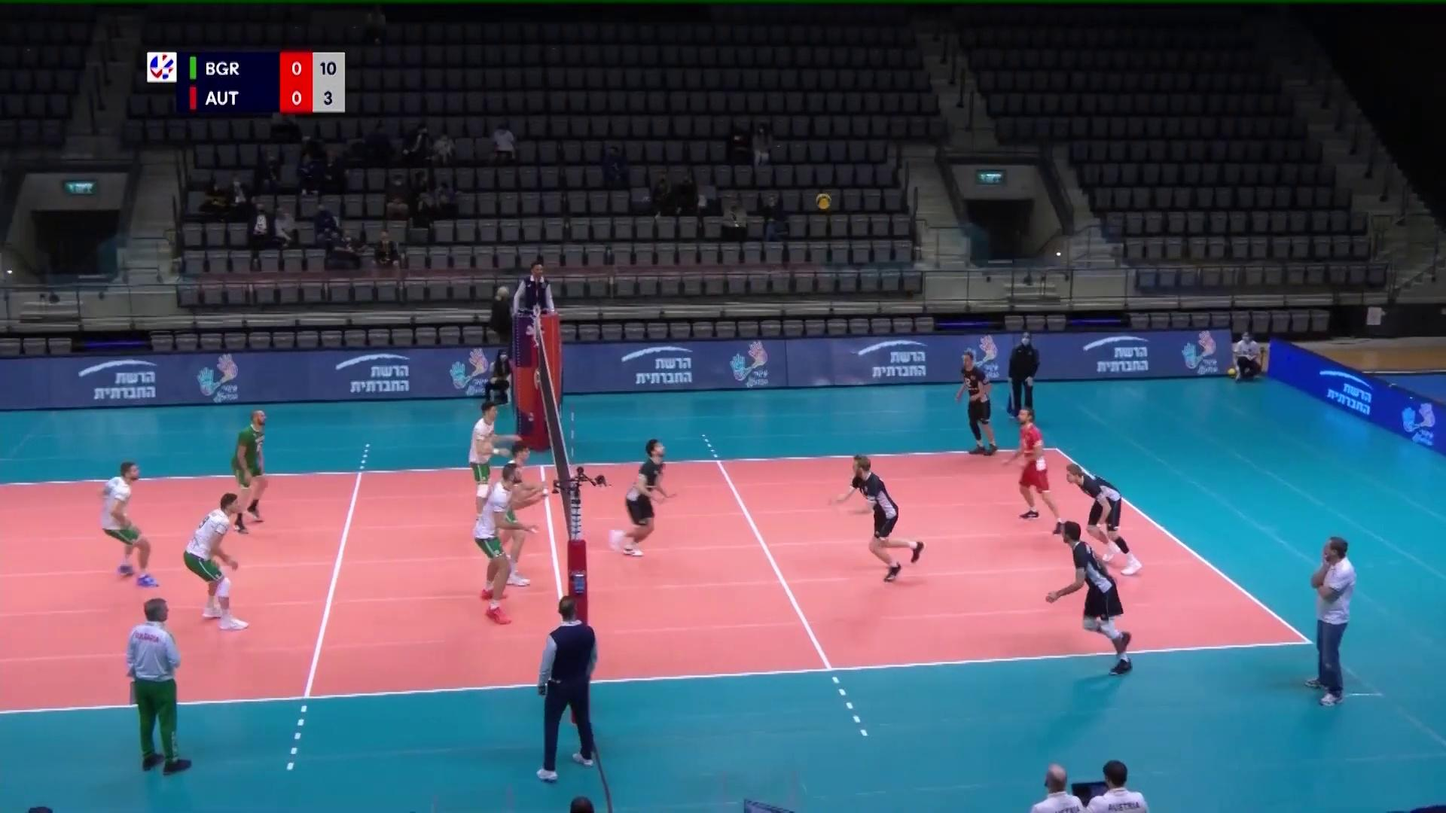ball: (814, 191, 834, 210)
